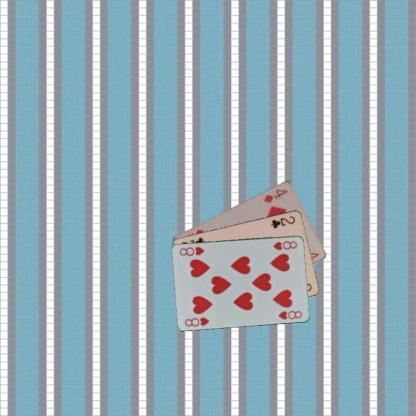2c: (268, 214, 296, 230)
4d: (261, 186, 289, 204)
8h: (182, 314, 210, 328), (271, 238, 298, 250)
